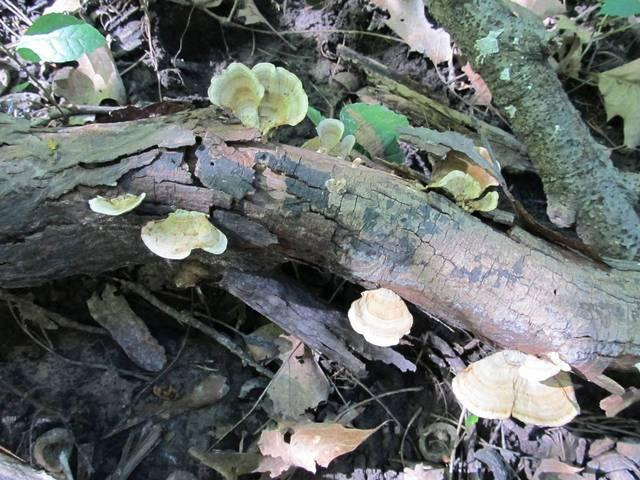Non-edible Mushroom: (450, 347, 580, 429), (206, 60, 306, 137), (346, 286, 414, 347)
